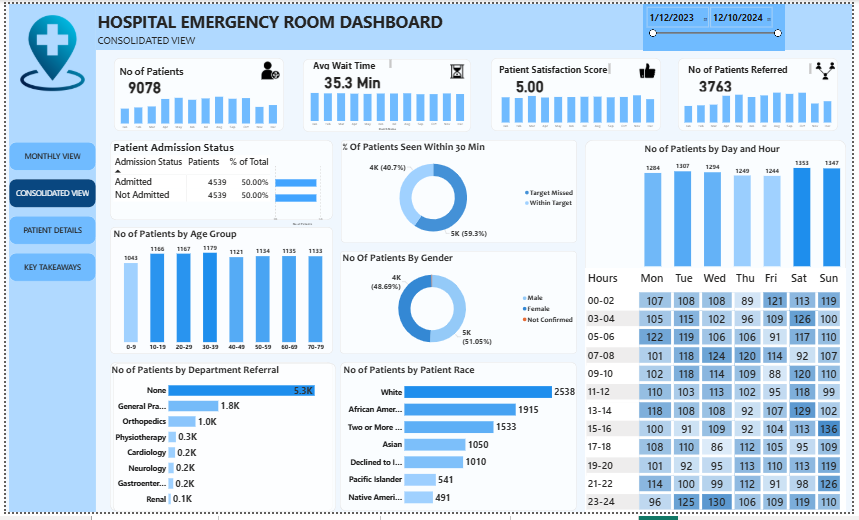

This screenshot's page, from the dashboard's own definition file:
{"tool":"powerbi","page":{"name":"CONSOLIDATED VIEW","canvas":[3000,1800],"ordinal":1},"visuals":[{"type":"shape","box":[10.6,0,308.3,1800],"z":0},{"type":"shape","box":[318.9,0,2682.3,163],"z":1000},{"type":"shape","box":[382.7,191.3,602.4,258.7],"z":2000},{"type":"textbox","box":[318.9,0,1243.7,113.4],"z":3000},{"type":"textbox","box":[318.9,85,365,78],"z":4000},{"type":"card","fields":{"Values":["Hospital ER_Data.No of Patients"]},"box":[368.5,237.4,244.5,102.8],"z":5000},{"type":"slicer","fields":{"Values":["Date Table.Date"]},"box":[2257.1,0,499.6,163],"z":6000},{"type":"textbox","box":[396.9,209.1,287,63.8],"z":7000},{"type":"columnChart","fields":{"Y":["Hospital ER_Data.No of Patients"],"Category":["Date Table.Month Name"]},"box":[382.7,308.3,602.4,145.3],"z":8000},{"type":"shape","box":[1051.2,194.9,595.3,258.7],"z":9000},{"type":"card","fields":{"Values":["Hospital ER_Data.Avg Wait Time"]},"box":[1105.5,237.4,244.5,70.9],"z":10000},{"type":"textbox","box":[1084.3,191.3,287,46.1],"z":11000},{"type":"columnChart","fields":{"Category":["Date Table.Month Name"],"Y":["Avg(Hospital ER_Data.Patient Waittime)"]},"box":[1055.9,290.6,591.7,163],"z":12000},{"type":"shape","box":[1718.5,191.3,602.4,258.7],"z":13000},{"type":"card","fields":{"Values":["Hospital ER_Data.Satisfaction Score"]},"box":[1732.7,248,244.5,74.4],"z":14000},{"type":"textbox","box":[1743.3,205.5,403.9,49.6],"z":15000},{"type":"columnChart","fields":{"Category":["Date Table.Month Name"],"Y":["Hospital ER_Data.Satisfaction Score"]},"box":[1732.7,297.6,588.2,152.4],"z":16000},{"type":"shape","box":[2381.1,191.3,566.9,258.7],"z":17000},{"type":"shape","box":[368.5,481.9,790.2,283.5],"z":18000},{"type":"card","fields":{"Values":["Hospital ER_Data.No of Patients Referred"]},"box":[2444.9,255.1,138.2,60.2],"z":19000},{"type":"textbox","box":[2413,205.5,446.5,49.6],"z":20000},{"type":"columnChart","fields":{"Category":["Date Table.Month Name"],"Y":["Hospital ER_Data.No of Patients Referred"]},"box":[2381.1,297.6,566.9,152.4],"z":21000},{"type":"pivotTable","title":"Patient Admission Status","fields":{"Rows":["Hospital ER_Data.Admission Status"],"Values":["Hospital ER_Data.No of Patients1","Hospital ER_Data.No of Patients"]},"box":[375.6,481.9,783.1,283.5],"z":22000},{"type":"barChart","fields":{"Category":["Hospital ER_Data.Admission Status"],"Y":["Hospital ER_Data.No of Patients"]},"box":[942.5,559.8,216.1,230.3],"z":23000},{"type":"shape","box":[368.5,790.2,790.2,450],"z":24000},{"type":"clusteredColumnChart","fields":{"Category":["Hospital ER_Data.Age Group"],"Y":["Hospital ER_Data.No of Patients"]},"box":[375.6,790.2,790.2,450],"z":25000},{"type":"shape","box":[368.5,1268.5,790.2,528],"z":26000},{"type":"shape","box":[378.5,1272,790.2,528],"z":27000},{"type":"clusteredBarChart","fields":{"Category":["Hospital ER_Data.Department Referral"],"Y":["Hospital ER_Data.No of Patients"]},"box":[367.9,1271.4,775,528.6],"z":28000},{"type":"shape","box":[1185.7,482.1,835.7,364.3],"z":29000},{"type":"donutChart","title":"  % Of Patients Seen Within 30 Min","fields":{"Category":["Hospital ER_Data.Waittime Status"],"Y":["Hospital ER_Data.No of Patients"]},"box":[1185.7,482.1,835.7,364.3],"z":30000},{"type":"shape","box":[1182.1,875,839.3,364.3],"z":31000},{"type":"donutChart","title":"No Of Patients By Gender","fields":{"Category":["Hospital ER_Data.Patient Gender"],"Y":["Hospital ER_Data.No of Patients"]},"box":[1185.7,875,835.7,364.3],"z":32000},{"type":"shape","box":[1182.1,1267.9,839.3,528.6],"z":33000},{"type":"clusteredBarChart","fields":{"Y":["Hospital ER_Data.No of Patients"],"Category":["Hospital ER_Data.Patient Race"]},"box":[1189.3,1271.4,832.1,528.6],"z":34000},{"type":"shape","box":[2050,482.1,925,1314.3],"z":35000},{"type":"pivotTable","fields":{"Rows":["Hospital ER_Data.Waittime Intervel"],"Columns":["Date Table.Day Name"],"Values":["Hospital ER_Data.No of Patients"]},"box":[2050,935.7,925,864.3],"z":36000},{"type":"columnChart","title":"No of Patients by Day and Hour","fields":{"Category":["Date Table.Day Name"],"Y":["Hospital ER_Data.No of Patients"]},"box":[2257.1,489.3,707.1,446.4],"z":37000},{"type":"image","box":[24.8,31.9,279.9,283.5],"z":38000},{"type":"image","box":[889.4,198.4,95.7,74.4],"z":39000},{"type":"image","box":[2859.4,198.4,88.6,78],"z":40000},{"type":"image","box":[1548.4,209.1,99.2,60.2],"z":41000},{"type":"image","box":[2225.2,202,95.7,70.9],"z":42000},{"type":"pageNavigator","box":[10.6,489,308.3,496.1],"z":43000}]}

Visuals, with their boxes on the page's 3000x1800 design canvas (x1, y1, x2, y2). These are canvas units, not pixel positions in the 859x520 screenshot, which may show the page scaled, cropped or inside an application window:
shape: locate(11, 0, 319, 1800)
shape: locate(319, 0, 3001, 163)
shape: locate(383, 191, 985, 450)
textbox: locate(319, 0, 1563, 113)
textbox: locate(319, 85, 684, 163)
card - Hospital ER_Data.No of Patients: locate(368, 237, 613, 340)
slicer - Date Table.Date: locate(2257, 0, 2757, 163)
textbox: locate(397, 209, 684, 273)
columnChart - Hospital ER_Data.No of Patients x Date Table.Month Name: locate(383, 308, 985, 454)
shape: locate(1051, 195, 1646, 454)
card - Hospital ER_Data.Avg Wait Time: locate(1106, 237, 1350, 308)
textbox: locate(1084, 191, 1371, 237)
columnChart - Date Table.Month Name x Avg(Hospital ER_Data.Patient Waittime): locate(1056, 291, 1648, 454)
shape: locate(1718, 191, 2321, 450)
card - Hospital ER_Data.Satisfaction Score: locate(1733, 248, 1977, 322)
textbox: locate(1743, 206, 2147, 255)
columnChart - Date Table.Month Name x Hospital ER_Data.Satisfaction Score: locate(1733, 298, 2321, 450)
shape: locate(2381, 191, 2948, 450)
shape: locate(368, 482, 1159, 765)
card - Hospital ER_Data.No of Patients Referred: locate(2445, 255, 2583, 315)
textbox: locate(2413, 206, 2860, 255)
columnChart - Date Table.Month Name x Hospital ER_Data.No of Patients Referred: locate(2381, 298, 2948, 450)
"Patient Admission Status" pivotTable: locate(376, 482, 1159, 765)
barChart - Hospital ER_Data.Admission Status x Hospital ER_Data.No of Patients: locate(942, 560, 1159, 790)
shape: locate(368, 790, 1159, 1240)
clusteredColumnChart - Hospital ER_Data.Age Group x Hospital ER_Data.No of Patients: locate(376, 790, 1166, 1240)
shape: locate(368, 1268, 1159, 1796)
shape: locate(378, 1272, 1169, 1800)
clusteredBarChart - Hospital ER_Data.Department Referral x Hospital ER_Data.No of Patients: locate(368, 1271, 1143, 1800)
shape: locate(1186, 482, 2021, 846)
"  % Of Patients Seen Within 30 Min" donutChart: locate(1186, 482, 2021, 846)
shape: locate(1182, 875, 2021, 1239)
"No Of Patients By Gender" donutChart: locate(1186, 875, 2021, 1239)
shape: locate(1182, 1268, 2021, 1796)
clusteredBarChart - Hospital ER_Data.No of Patients x Hospital ER_Data.Patient Race: locate(1189, 1271, 2021, 1800)
shape: locate(2050, 482, 2975, 1796)
pivotTable - Hospital ER_Data.Waittime Intervel x Date Table.Day Name: locate(2050, 936, 2975, 1800)
"No of Patients by Day and Hour" columnChart: locate(2257, 489, 2964, 936)
image: locate(25, 32, 305, 315)
image: locate(889, 198, 985, 273)
image: locate(2859, 198, 2948, 276)
image: locate(1548, 209, 1648, 269)
image: locate(2225, 202, 2321, 273)
pageNavigator: locate(11, 489, 319, 985)
